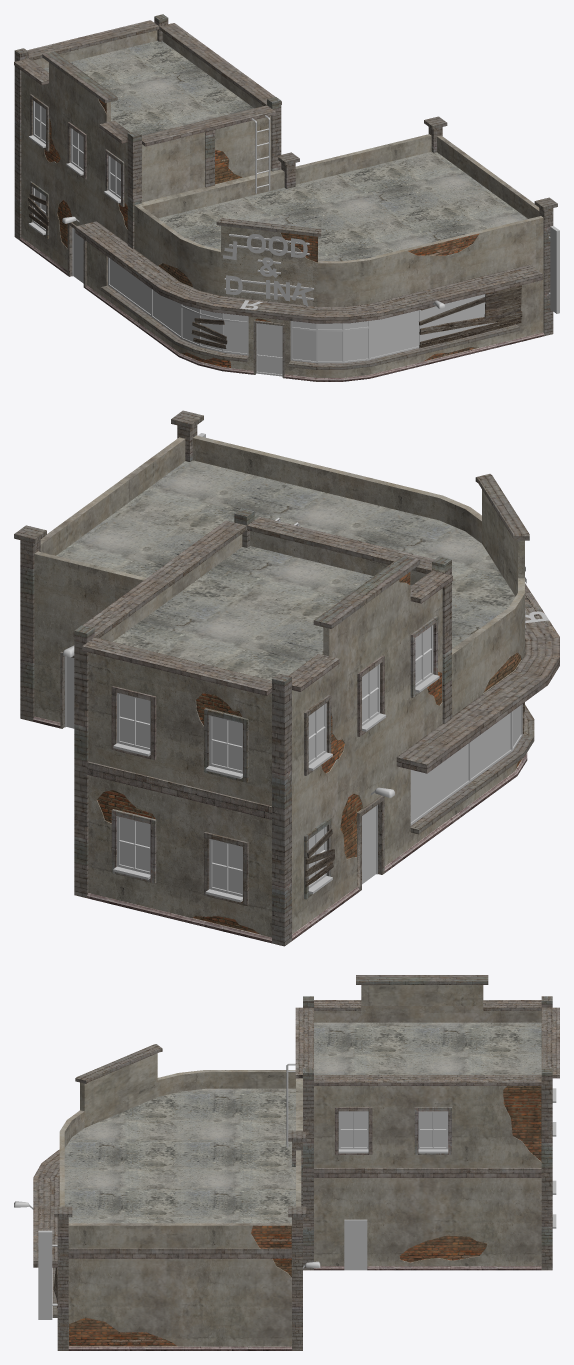
The model's file is build9.fbx.
The picture shows the model from 3 angles, top to bottom: view 1: azimuth 30°, elevation 25°; view 2: azimuth 150°, elevation 25°; view 3: azimuth 270°, elevation 25°; orthographic projection. The views are drawn at different scales.
Visible parts, largest first — view 1: polySurface5; view 2: polySurface5; view 3: polySurface5.
Part boxes in pixels (x1,y1,x2,y2): polySurface5: (14, 14, 559, 381); polySurface5: (14, 410, 559, 946); polySurface5: (14, 975, 559, 1350).
Size of the model in its own units: 13.82 by 8.28 by 18.86.
